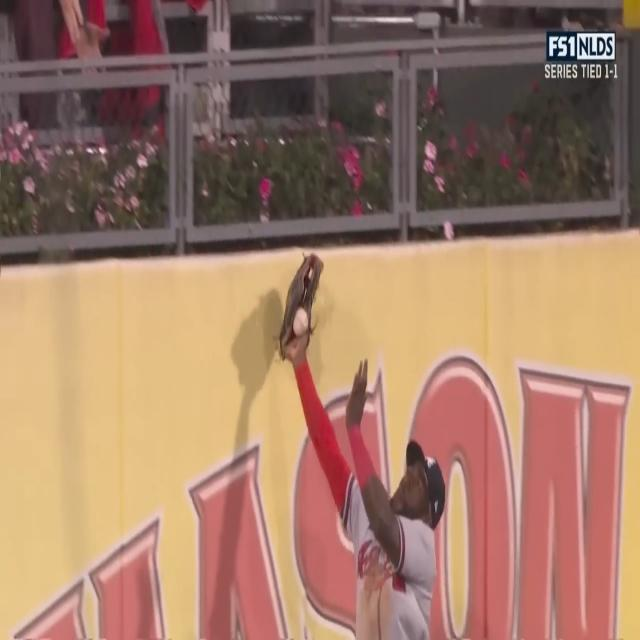baseball: (292, 302, 311, 340)
